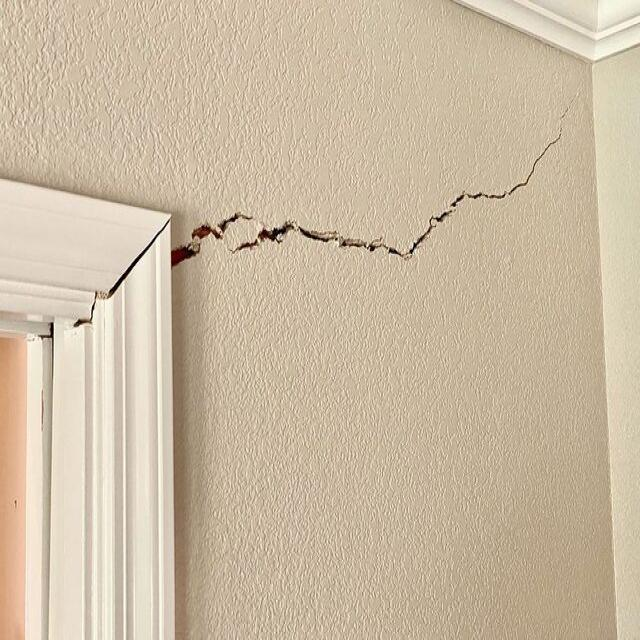Crack: (169, 108, 582, 277)
